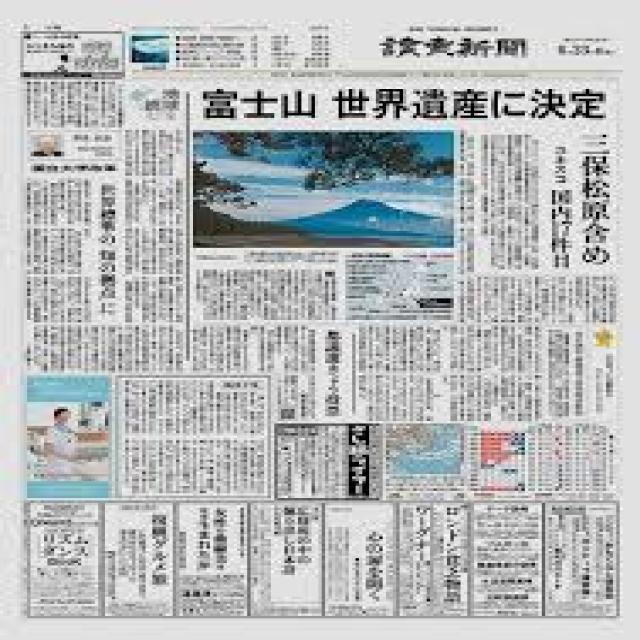paper: (10, 11, 640, 635)
